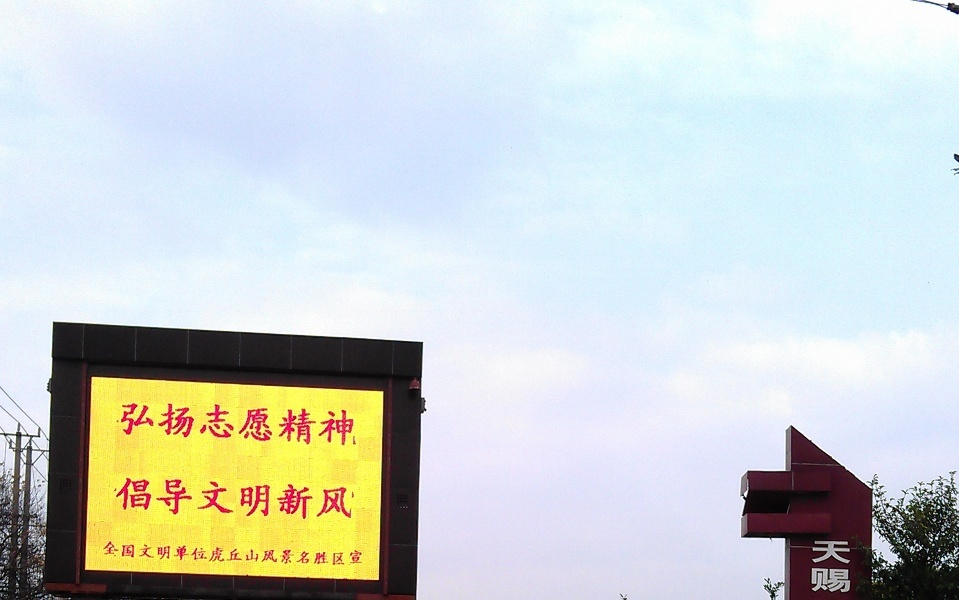text: (817, 539, 832, 596), (833, 539, 848, 596), (129, 399, 144, 447), (145, 399, 160, 447), (161, 399, 176, 447), (177, 399, 192, 447), (193, 399, 208, 447), (209, 399, 224, 447), (225, 399, 240, 447), (241, 399, 256, 447), (257, 399, 272, 447), (273, 399, 288, 447), (289, 399, 304, 447), (305, 399, 320, 447), (321, 399, 336, 447), (337, 399, 352, 447), (129, 477, 144, 524), (145, 477, 160, 524), (161, 477, 176, 524), (177, 477, 192, 524), (193, 477, 208, 524), (209, 477, 224, 524), (225, 477, 240, 524), (241, 477, 256, 524), (257, 477, 272, 524), (273, 477, 288, 524), (289, 477, 304, 524), (305, 477, 320, 524), (321, 477, 336, 524), (337, 477, 352, 524), (116, 477, 128, 524), (808, 539, 816, 596), (113, 539, 128, 569), (129, 539, 144, 569), (145, 539, 160, 569), (161, 539, 176, 569), (177, 539, 192, 569), (193, 539, 208, 569), (209, 539, 224, 569), (225, 539, 240, 569), (241, 539, 256, 569), (257, 539, 272, 569), (273, 539, 288, 569), (289, 539, 304, 569), (305, 539, 320, 569), (321, 539, 336, 569), (337, 539, 352, 569), (120, 399, 128, 447), (353, 539, 363, 569), (103, 539, 112, 569), (849, 539, 853, 596), (353, 399, 357, 447), (353, 477, 355, 524)
